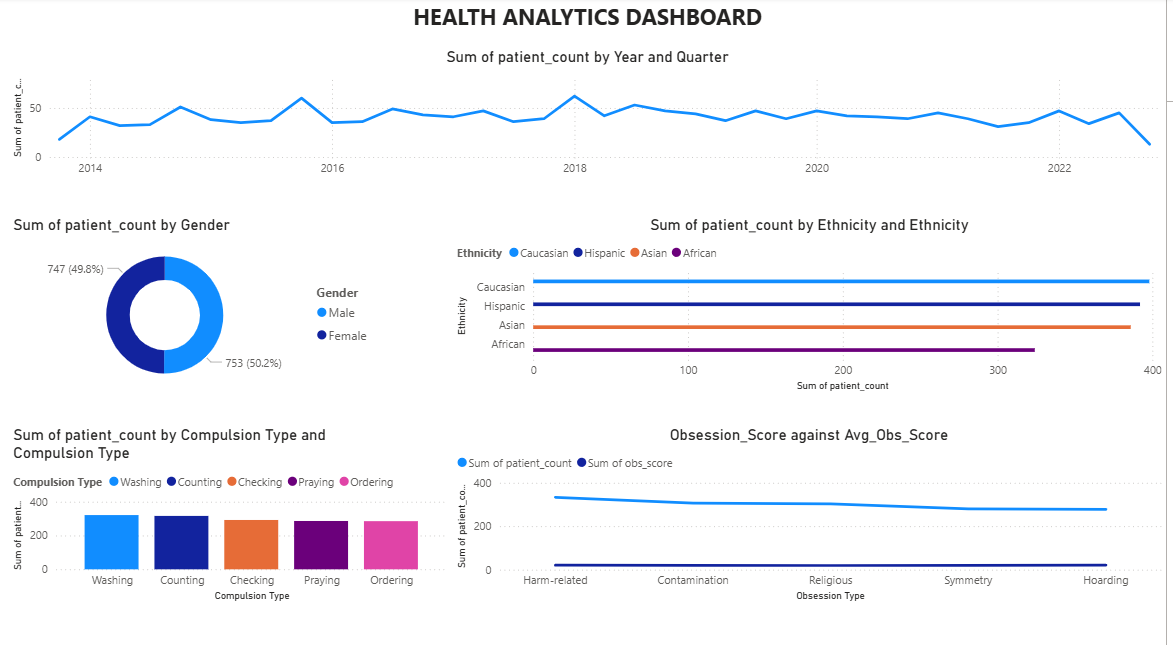

This screenshot's page, from the dashboard's own definition file:
{"tool":"powerbi","page":{"name":"Page 1","canvas":[1280,720],"ordinal":0},"visuals":[{"type":"textbox","box":[9.6,0,1270.7,45.3],"z":0},{"type":"lineChart","fields":{"Category":["diagnosis mom.month.Variation.Date Hierarchy.Year","diagnosis mom.month.Variation.Date Hierarchy.Quarter"],"Y":["Sum(diagnosis mom.patient_count)"]},"box":[9.6,54.9,1270.7,150.9],"z":1000},{"type":"donutChart","fields":{"Category":["gender.Gender"],"Y":["Sum(gender.patient_count)"]},"box":[9.6,240.1,408.9,197.6],"z":2000},{"type":"clusteredBarChart","fields":{"Category":["ethnicity.Ethnicity"],"Y":["Sum(ethnicity.patient_count)"],"Series":["ethnicity.Ethnicity"]},"box":[496.7,240.1,783.5,197.6],"z":3000},{"type":"columnChart","fields":{"Category":["comp_type.Compulsion Type"],"Y":["Sum(comp_type.patient_count)"],"Series":["comp_type.Compulsion Type"]},"box":[9.6,470.7,487.1,197.6],"z":4000},{"type":"lineChart","title":"Obsession_Score against Avg_Obs_Score","fields":{"Category":["obs_type.Obsession Type"],"Y":["Sum(obs_type.patient_count)","Sum(obs_type.obs_score)"]},"box":[497,471,783,198],"z":5000}]}

Visuals, with their boxes in screenshot pixels (x1, y1, x2, y2), scaled from the page's 1280x720 canvas onto the 1173x645 screenshot:
textbox: crop(9, 0, 1172, 41)
lineChart - diagnosis mom.month.Variation.Date Hierarchy.Year x diagnosis mom.month.Variation.Date Hierarchy.Quarter: crop(9, 49, 1172, 184)
donutChart - gender.Gender x Sum(gender.patient_count): crop(9, 215, 384, 392)
clusteredBarChart - ethnicity.Ethnicity x Sum(ethnicity.patient_count): crop(455, 215, 1172, 392)
columnChart - comp_type.Compulsion Type x Sum(comp_type.patient_count): crop(9, 422, 455, 599)
"Obsession_Score against Avg_Obs_Score" lineChart: crop(455, 422, 1172, 599)
